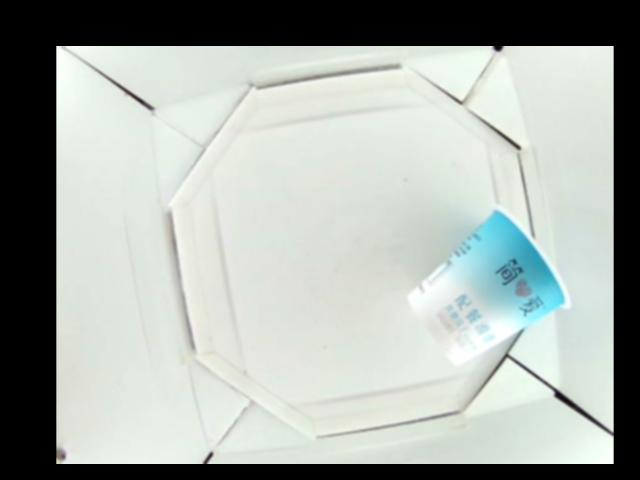Cup: (408, 201, 574, 363)
